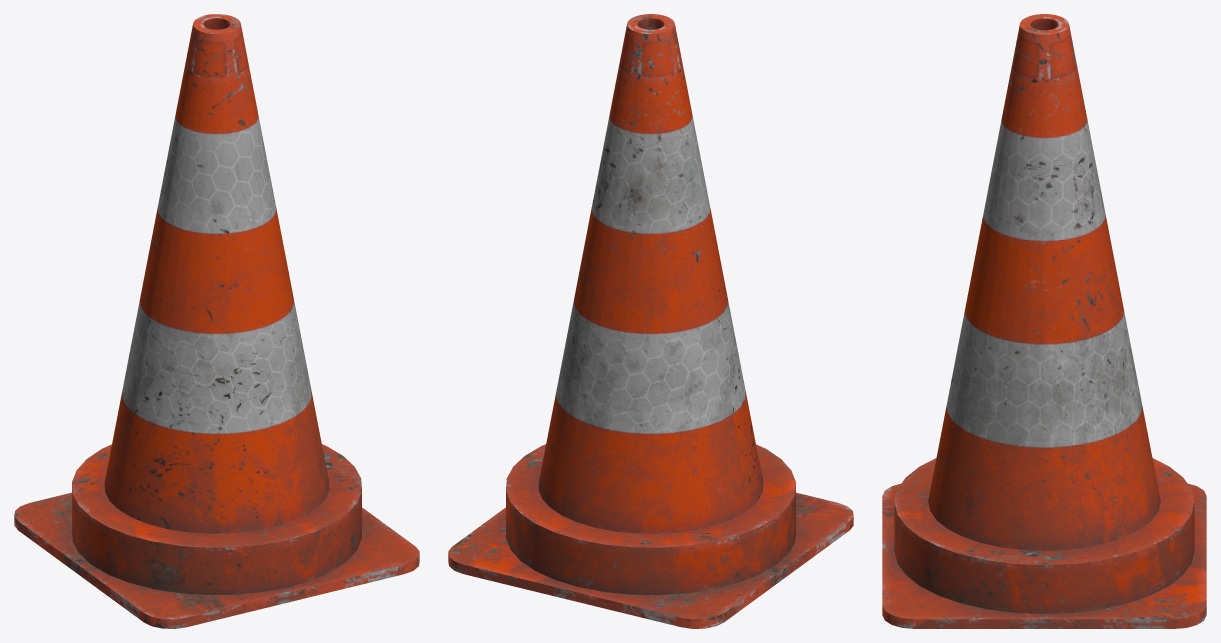
Rendered from traffic_cone.gltf.
3 renders of one model, left to right at view 1: azimuth 30°, elevation 25°; view 2: azimuth 150°, elevation 25°; view 3: azimuth 270°, elevation 25°, orthographic. The views are drawn at different scales.
Parts seen in each view (by area): view 1: Traffic_cone_1_LOD0; view 2: Traffic_cone_1_LOD0; view 3: Traffic_cone_1_LOD0.
Boxes of the visible parts, x1,y1,x2,y2 form: Traffic_cone_1_LOD0: [14, 14, 419, 628]; Traffic_cone_1_LOD0: [448, 14, 853, 628]; Traffic_cone_1_LOD0: [882, 14, 1206, 628].
Size of what is drawn, in the model's own units: 0.3 by 0.5474 by 0.3.
1 material, 1 textured.
